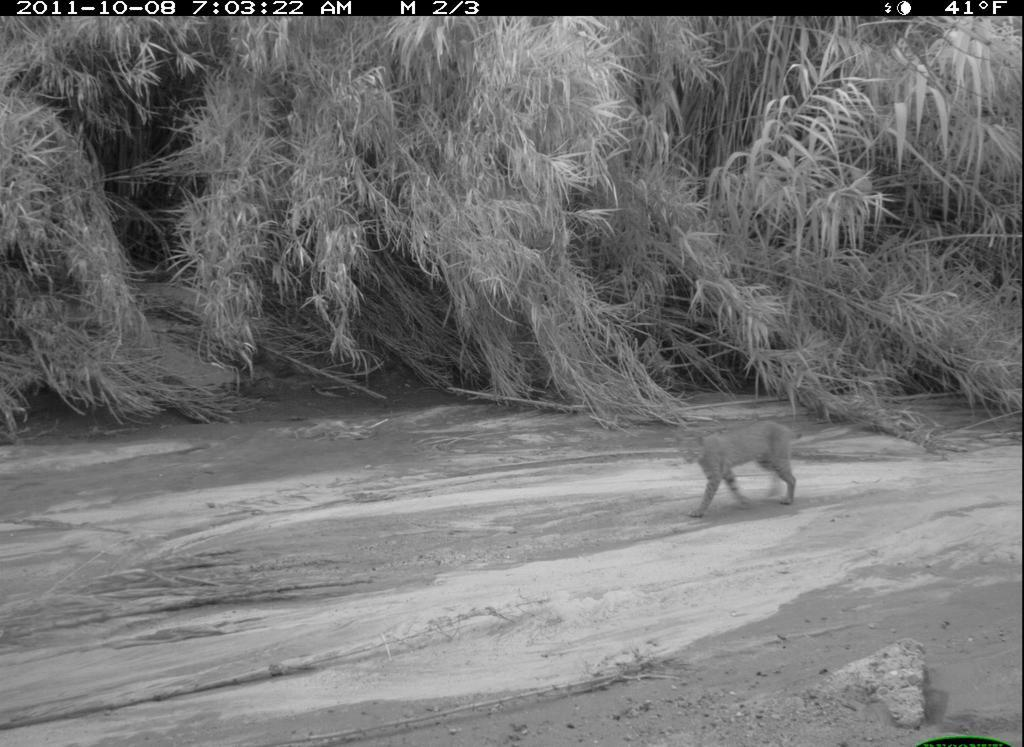bobcat: (666, 414, 812, 530)
